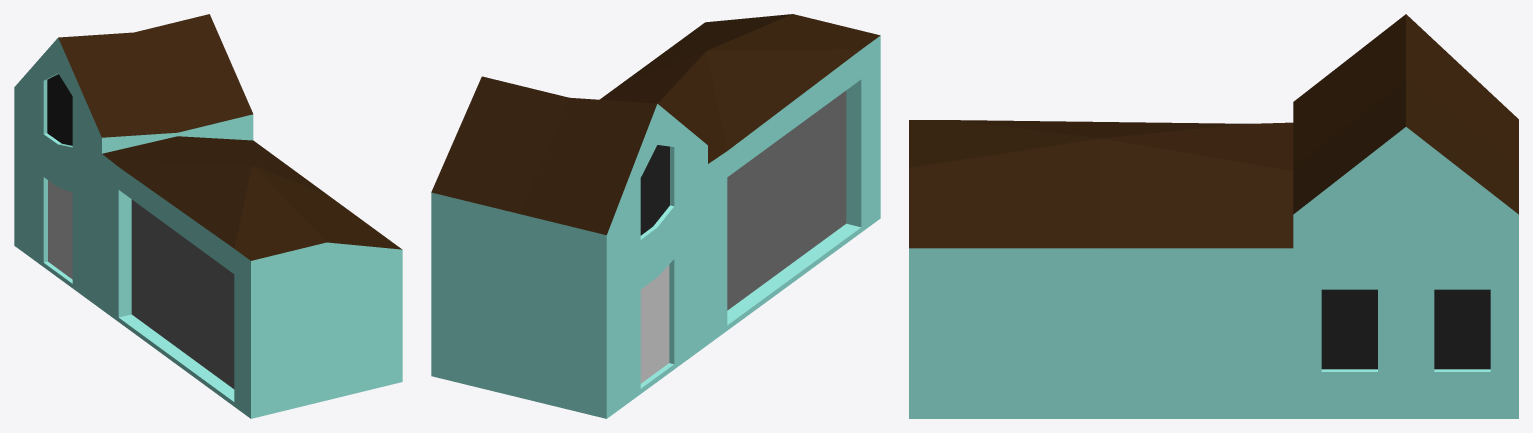
Rendered from casa.fbx.
3 renders of one model, left to right at view 1: azimuth 30°, elevation 25°; view 2: azimuth 150°, elevation 25°; view 3: azimuth 270°, elevation 25°, orthographic. The views are drawn at different scales.
Parts seen in each view (by area): view 1: Cubo; view 2: Cubo; view 3: Cubo.
Boxes of the visible parts, x1,y1,x2,y2 form: Cubo: (14, 14, 402, 418); Cubo: (431, 14, 880, 418); Cubo: (909, 14, 1518, 418).
Size of the model in its own units: 200 by 303 by 541.
